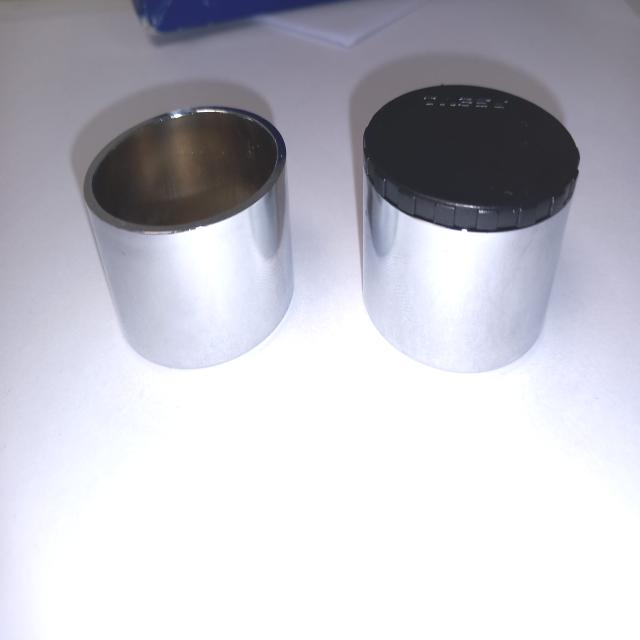NoLid: (64, 90, 312, 383)
Workpiece: (339, 72, 580, 384)
